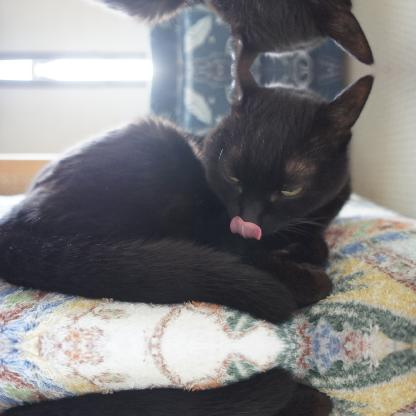Cat: (0, 68, 377, 324), (0, 0, 377, 70)
